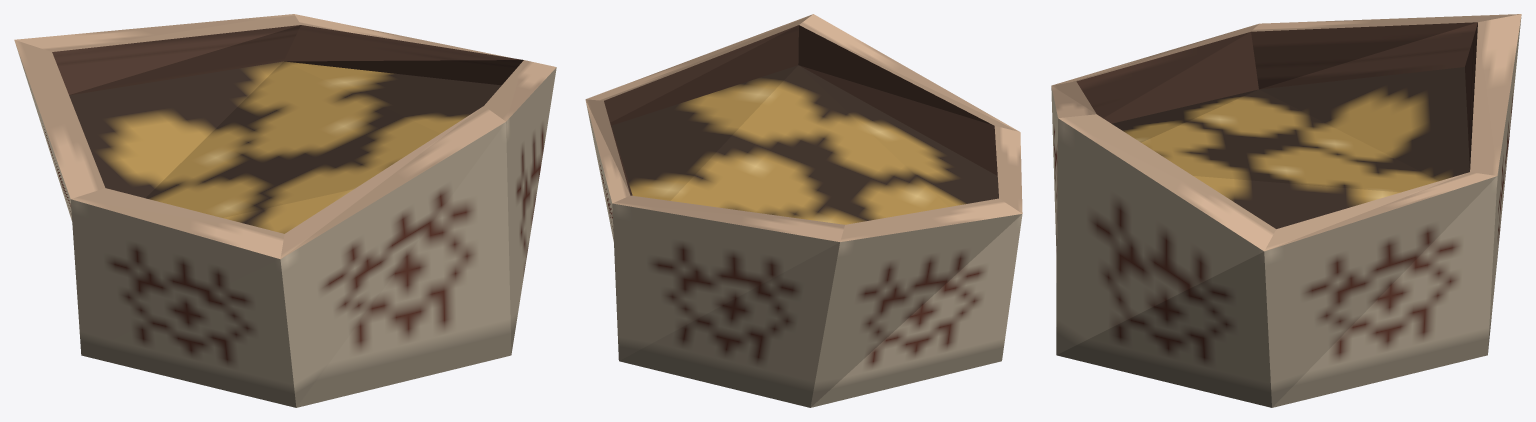
File: SM_CoinBowl.fbx
The picture shows the model from 3 angles, left to right: view 1: azimuth 30°, elevation 25°; view 2: azimuth 150°, elevation 25°; view 3: azimuth 270°, elevation 25°; orthographic projection. The views are drawn at different scales.
Parts seen in each view (by area): view 1: CoinBowl_Visual; view 2: CoinBowl_Visual; view 3: CoinBowl_Visual.
Part boxes in pixels (x1,y1,x2,y2): CoinBowl_Visual: (14,14,556,407); CoinBowl_Visual: (585,14,1022,407); CoinBowl_Visual: (1051,14,1521,407).
Bounding box in the file's own units: 0.1476 × 0.0683 × 0.1227.
